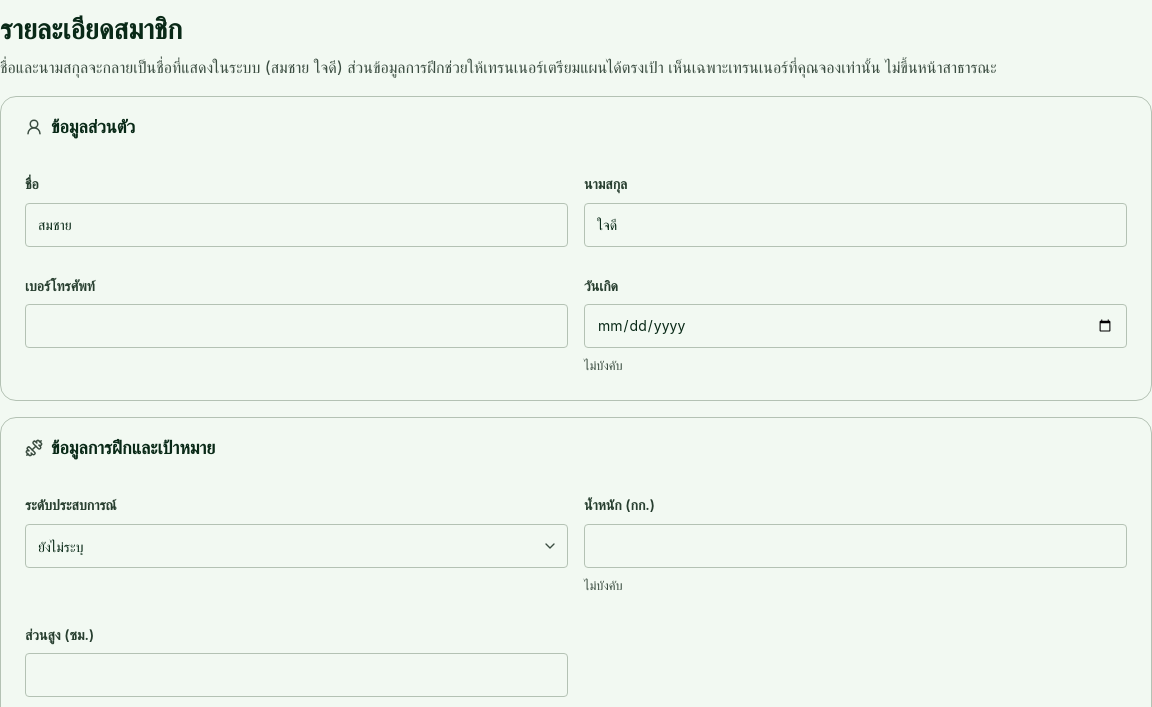
Test case: MemberProfileForm › shows only the approved member fields and sends the exact profile body
Expected: the field labelled "ชื่อ" is shown, [25,203,568,247]
Expected: the field labelled "นามสกุล" is shown, [584,203,1127,247]
Type "0812345678" into the field labelled "เบอร์โทรศัพท์" at (296, 326), box [25,304,568,348]
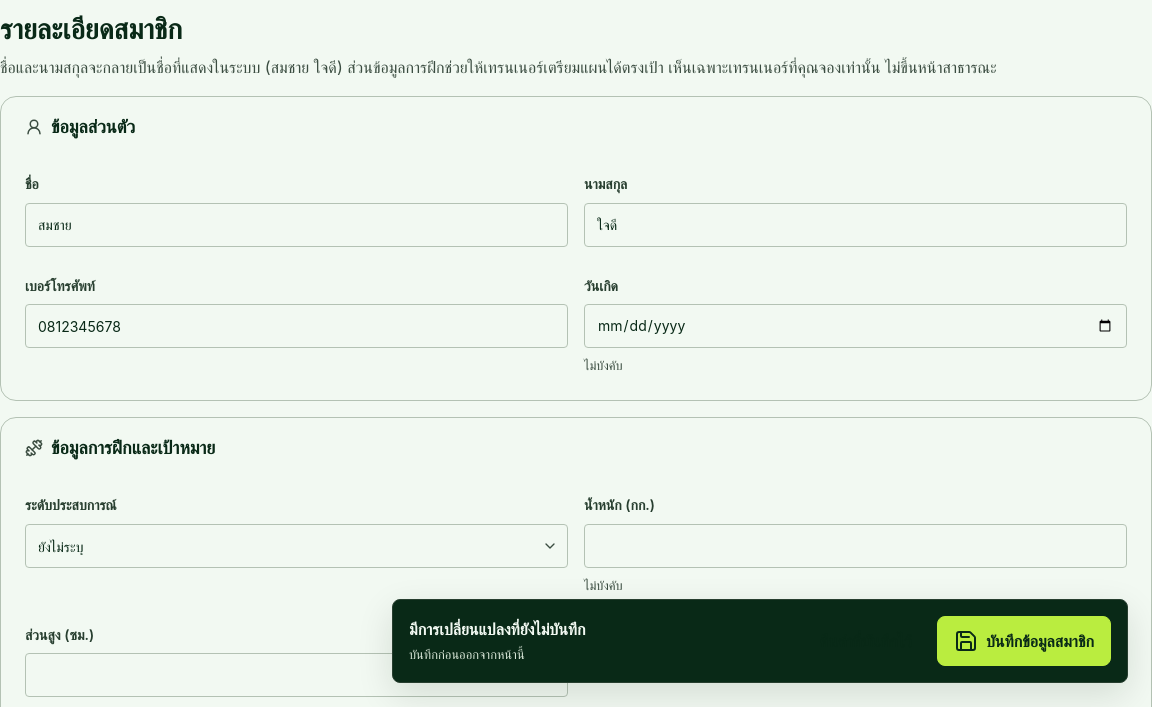
Type "1998-04-12" into the date field labelled "วันเกิด" at (856, 326), box [584,304,1127,348]
(page scrolled)
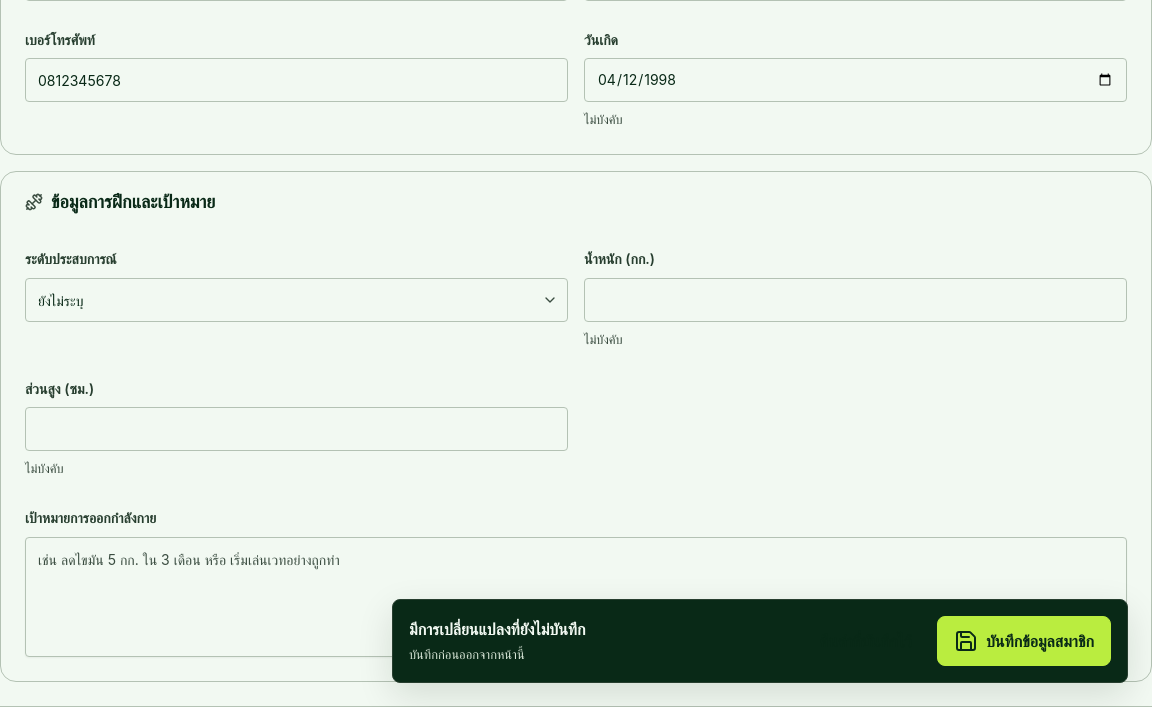
Type "เพิ่มความแข็งแรง" into the text box labelled "เป้าหมายการออกกำลังกาย" at (576, 597), box [25,537,1127,657]
Select "เริ่มต้น" in the dropdown labelled "ระดับประสบการณ์" at (296, 300), box [25,278,568,322]
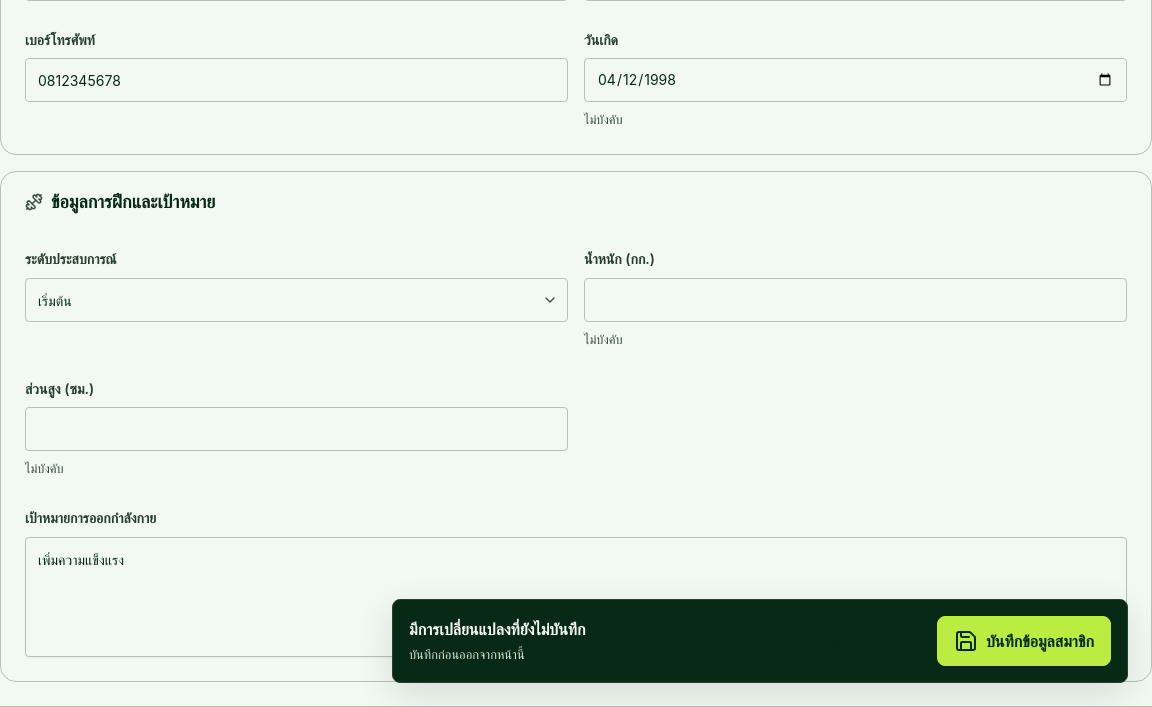
Type "70.5" into the number field labelled "น้ำหนัก (กก.)" at (856, 300), box [584,278,1127,322]
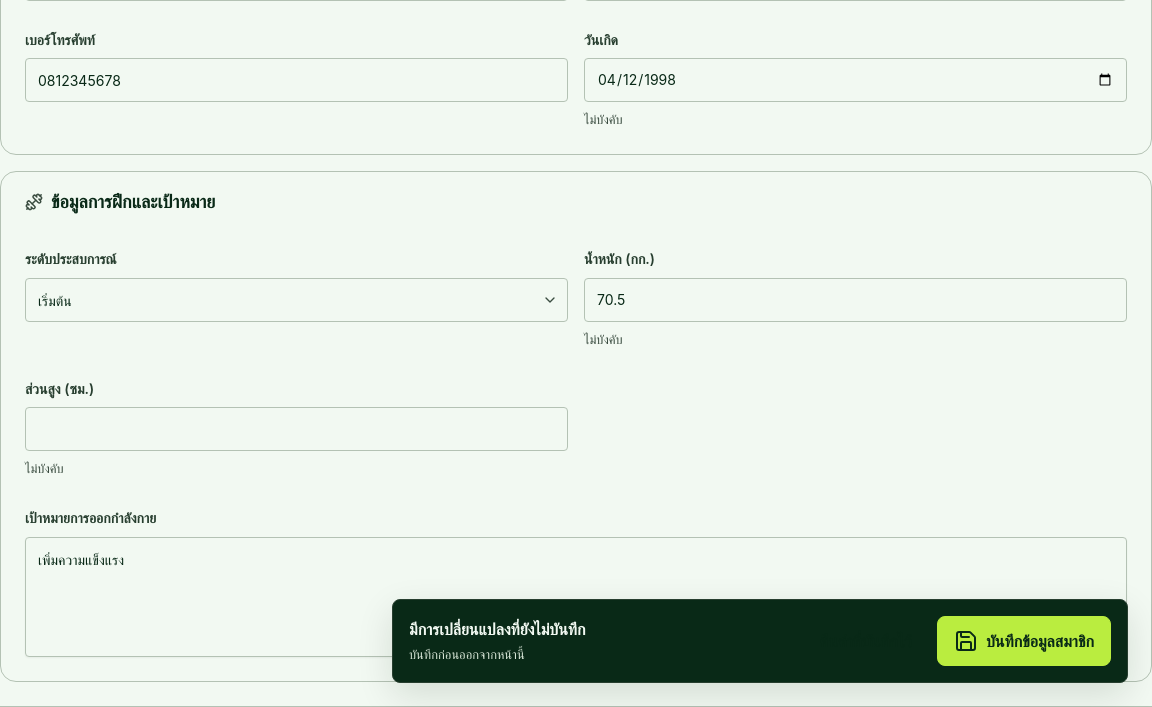
Type "175" into the number field labelled "ส่วนสูง (ซม.)" at (296, 429), box [25,407,568,451]
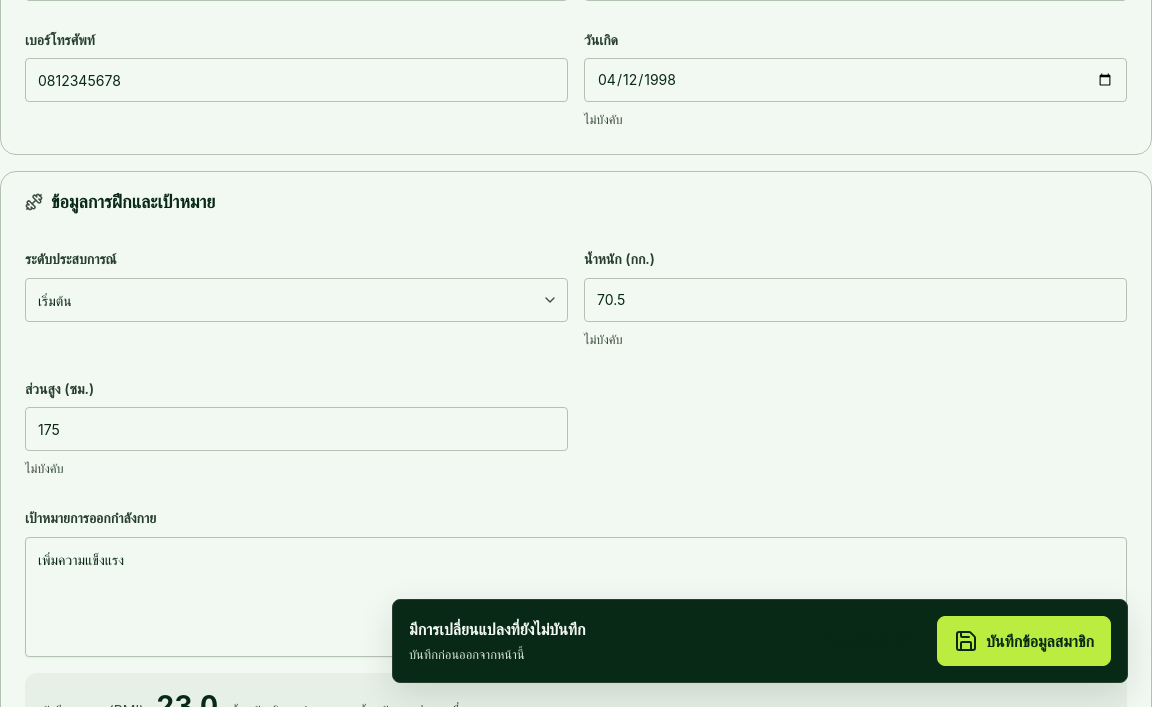
Click the button "บันทึกข้อมูลสมาชิก" at (1024, 641), box [937,616,1111,666]
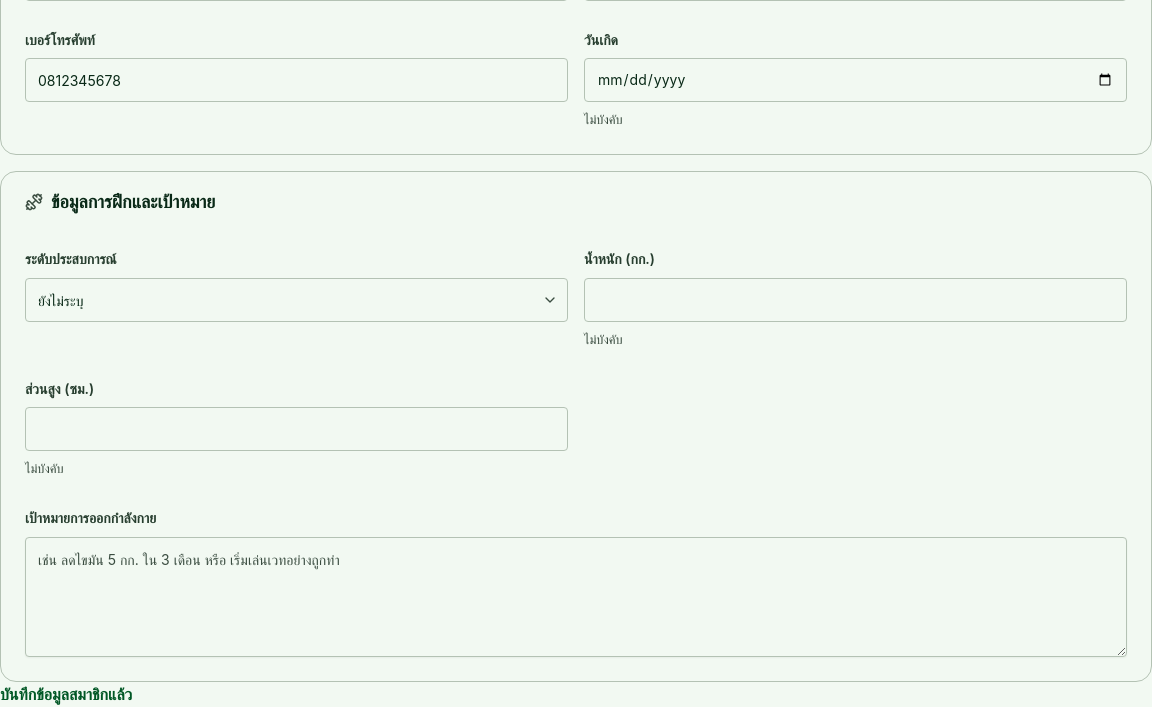
Result: the message reads "บันทึกข้อมูลสมาชิกแล้ว" at [0,684,132,704]
